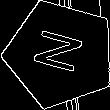N_E: (29, 28, 91, 81)
